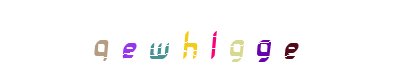E: (123, 0, 203, 80), (251, 0, 331, 80)
G: (173, 0, 253, 80), (224, 0, 304, 80)
H: (149, 0, 229, 80)
L: (160, 0, 240, 80)
Q: (113, 0, 193, 80)
W: (137, 0, 217, 80)
